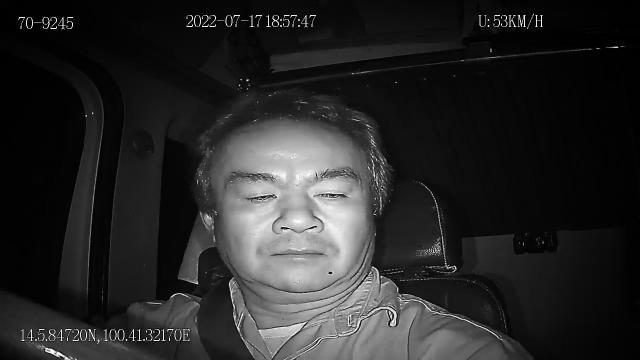SafeDriving: (229, 178, 285, 210), (306, 176, 358, 207)
Seatbelt: (194, 272, 260, 360)
